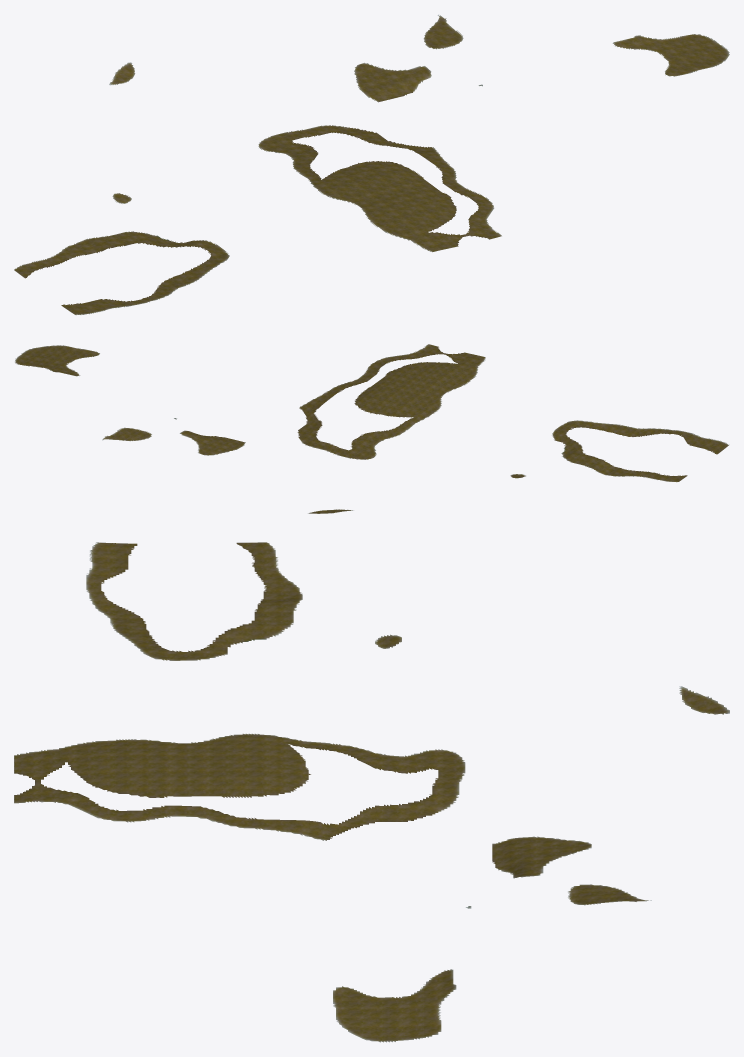
File: grass_visual.dae
3 renders of one model, top to bottom at view 1: azimuth 30°, elevation 25°; view 2: azimuth 150°, elevation 25°; view 3: azimuth 270°, elevation 25°, orthographic. The views are drawn at different scales.
Visible parts, largest first — view 1: Terrain; view 2: Terrain; view 3: Terrain.
Part boxes in pixels (<box>): Terrain: <box>14,14,729,315</box>; Terrain: <box>15,344,729,513</box>; Terrain: <box>14,542,729,1042</box>.
Bounding box in the file's own units: 1000 × 595 × 24.71.
Materials: 1 (1 with a texture image).
